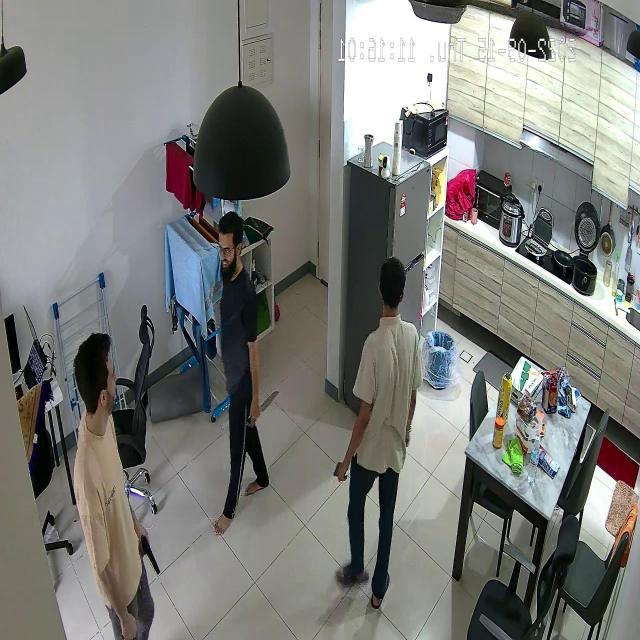Gun: (136, 527, 178, 580)
Knife: (246, 381, 282, 427)
